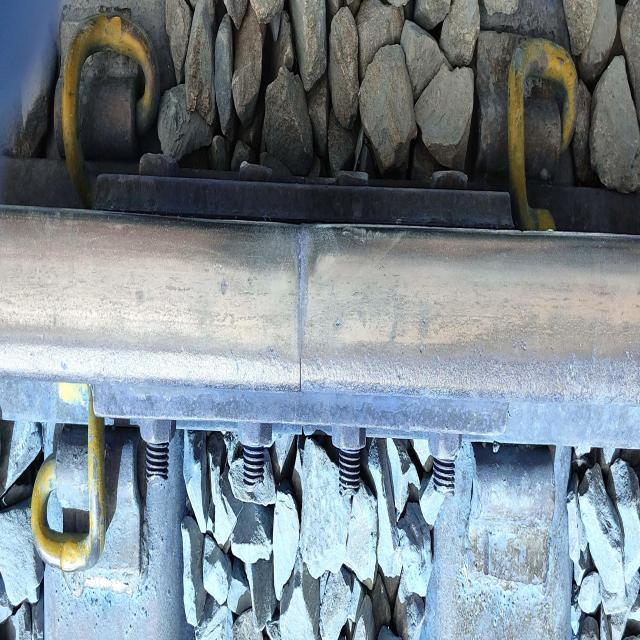Good Fasteners: (28, 337, 154, 614), (471, 30, 590, 245), (49, 18, 156, 201)
Good Joint: (138, 156, 509, 495)
Missing Fastener: (461, 434, 581, 619)
